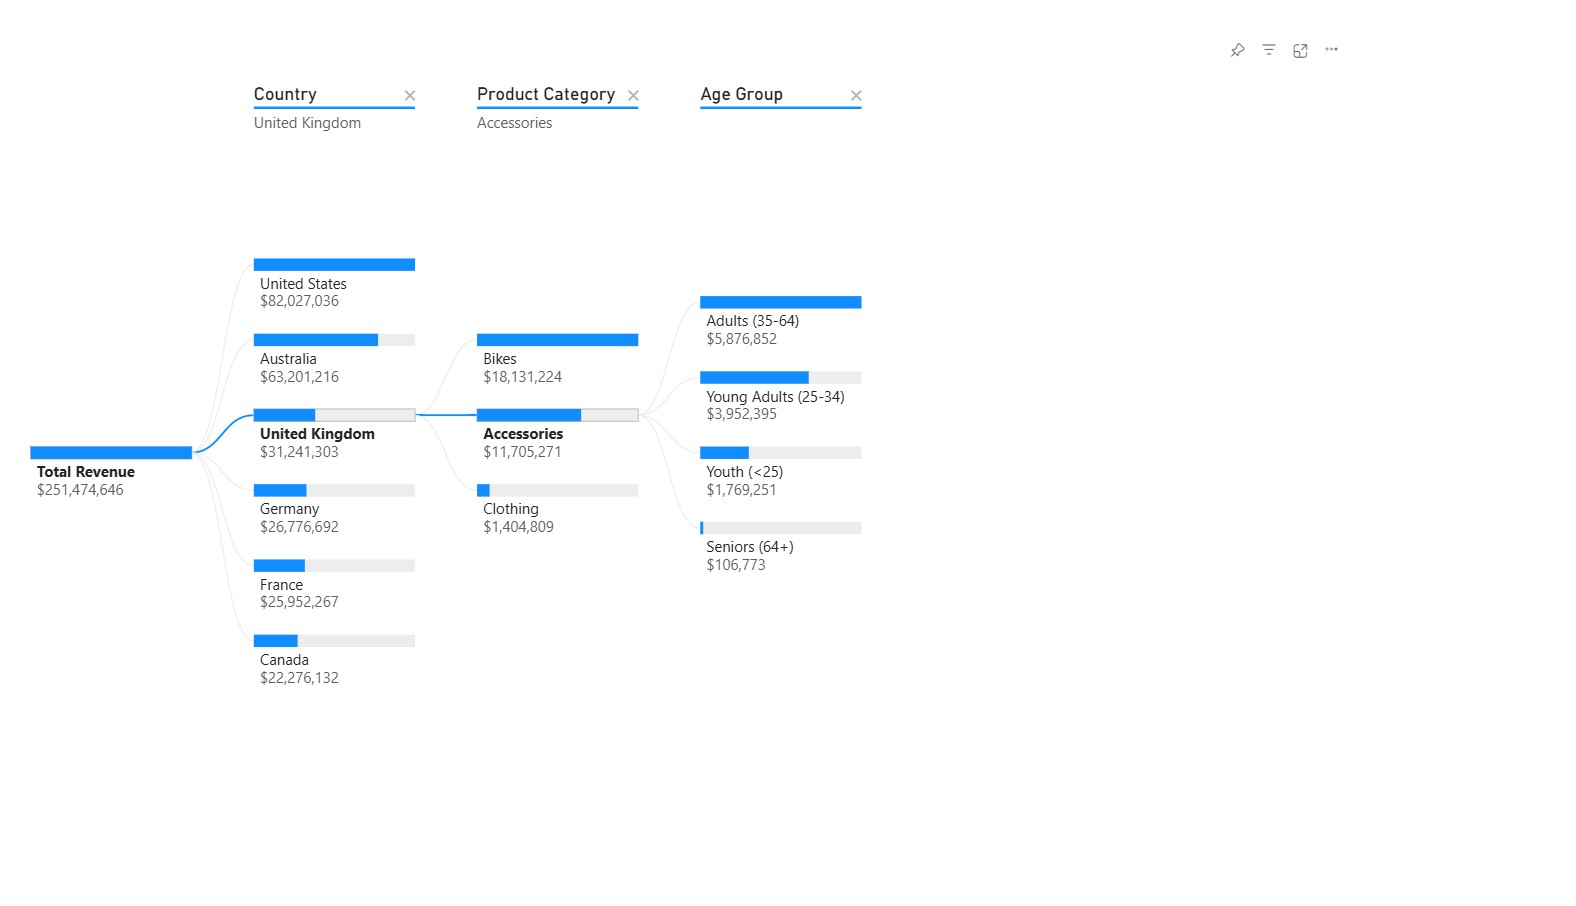

What the dashboard file says about the page in this screenshot:
{"tool":"powerbi","page":{"name":"Decomposition Tree","canvas":[1280,720],"ordinal":3},"visuals":[{"type":"decompositionTreeVisual","fields":{"Analyze":["Maven Cycles Sales.Total Revenue"],"ExplainBy":["Maven Cycles Regions.Country","Maven Cycles Product Categories.Product Category","Maven Cycles Age Group.Age Group"]},"box":[0,56.7,1091.7,606.7],"z":0}]}

Visuals, with their boxes in screenshot pixels (x1, y1, x2, y2), scaled from the page's 1280x720 canvas onto the 1576x906 screenshot:
decompositionTreeVisual - Maven Cycles Sales.Total Revenue x Maven Cycles Regions.Country: region(0, 71, 1344, 835)
